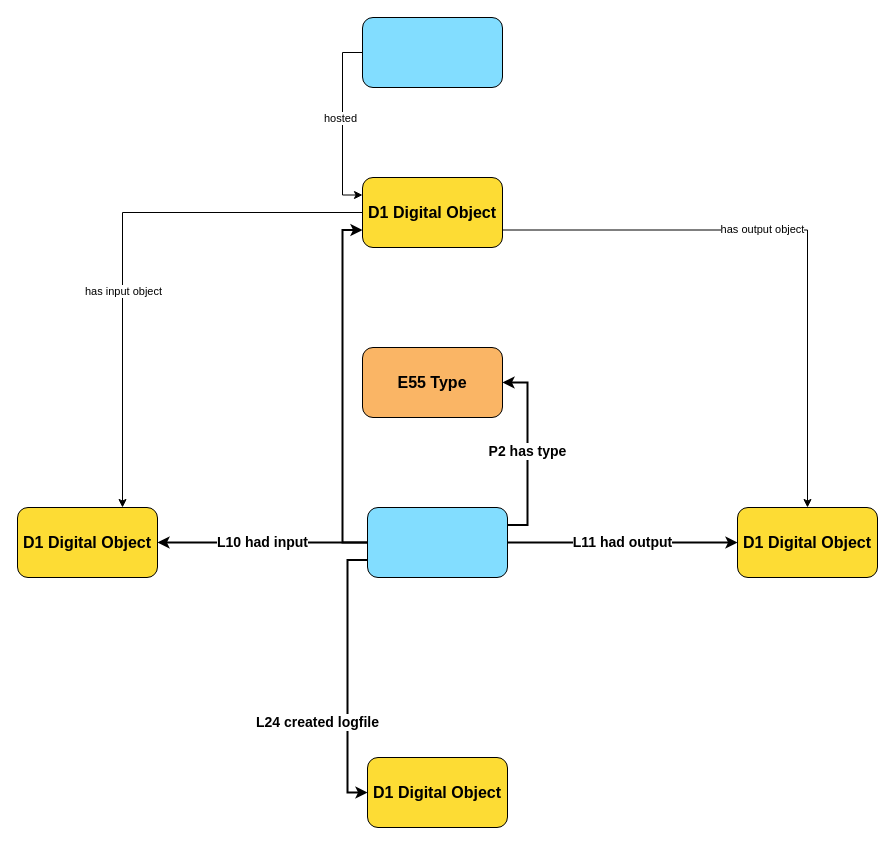
This 895x845 diagram has some shape labels left out. Each missing label, with the centre of its shape:
"D7 Digital Machine Event" belongs at (437,542).
"Hosting Service" belongs at (432,52).
